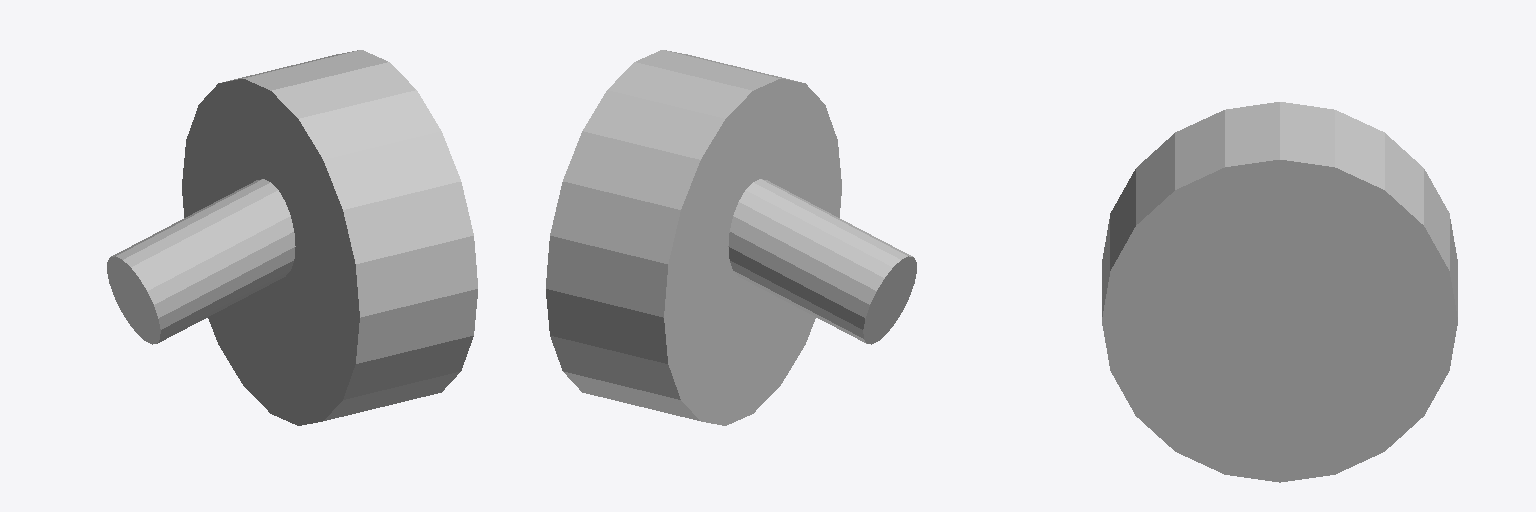
The model's file is Drone_rightupperarm.obj.
3 views of the same model, side by side, from view 1: azimuth 30°, elevation 25°; view 2: azimuth 150°, elevation 25°; view 3: azimuth 270°, elevation 25° (orthographic).
Parts seen in each view (by area): view 1: Left_Arm1, Left_Shoulder; view 2: Left_Arm1, Left_Shoulder; view 3: Left_Arm1.
Boxes of the visible parts, box(x1,y1,x2,y2) form: Left_Arm1: box(182, 50, 477, 425); Left_Shoulder: box(107, 179, 295, 344); Left_Arm1: box(546, 50, 841, 425); Left_Shoulder: box(728, 179, 916, 344); Left_Arm1: box(1102, 102, 1457, 482).
Bounding box in the file's own units: 1.73 × 2 × 2.